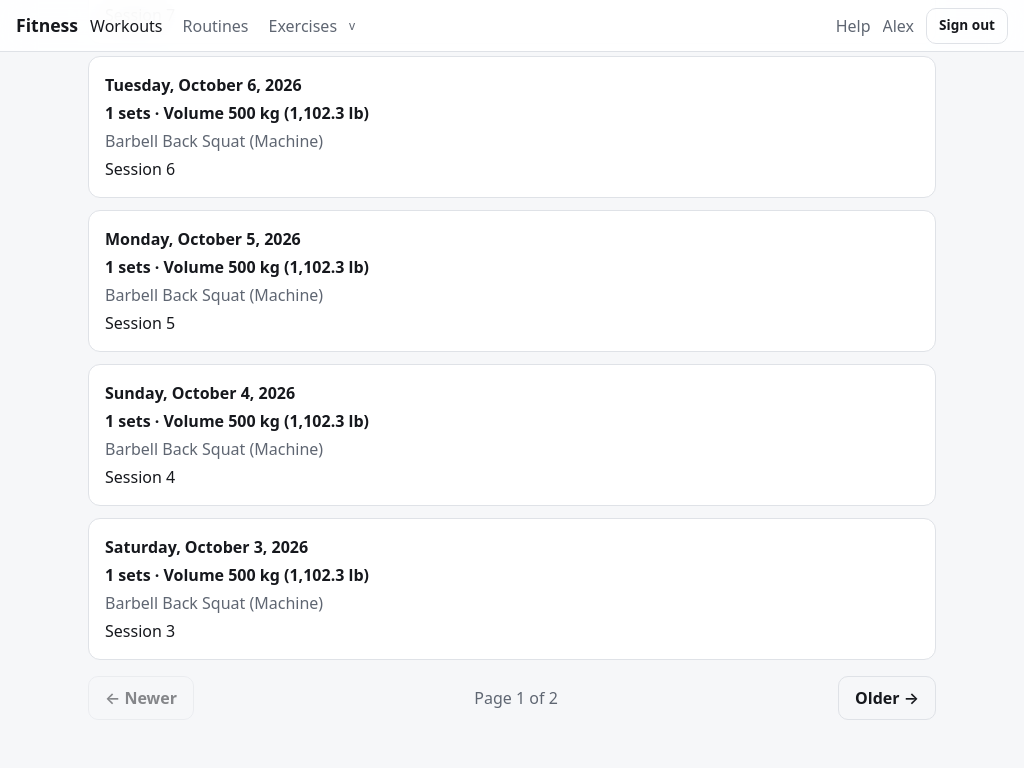
workouts list › paginates with newer/older links
(page scrolled)
Expected: the text "Page 1 of 2" is shown, [474,686,558,710]
Expected: the text "Session 2" is not shown
Click the link "Older →" at {"x": 887, "y": 698}, box [838,676,936,720]
(page scrolled)
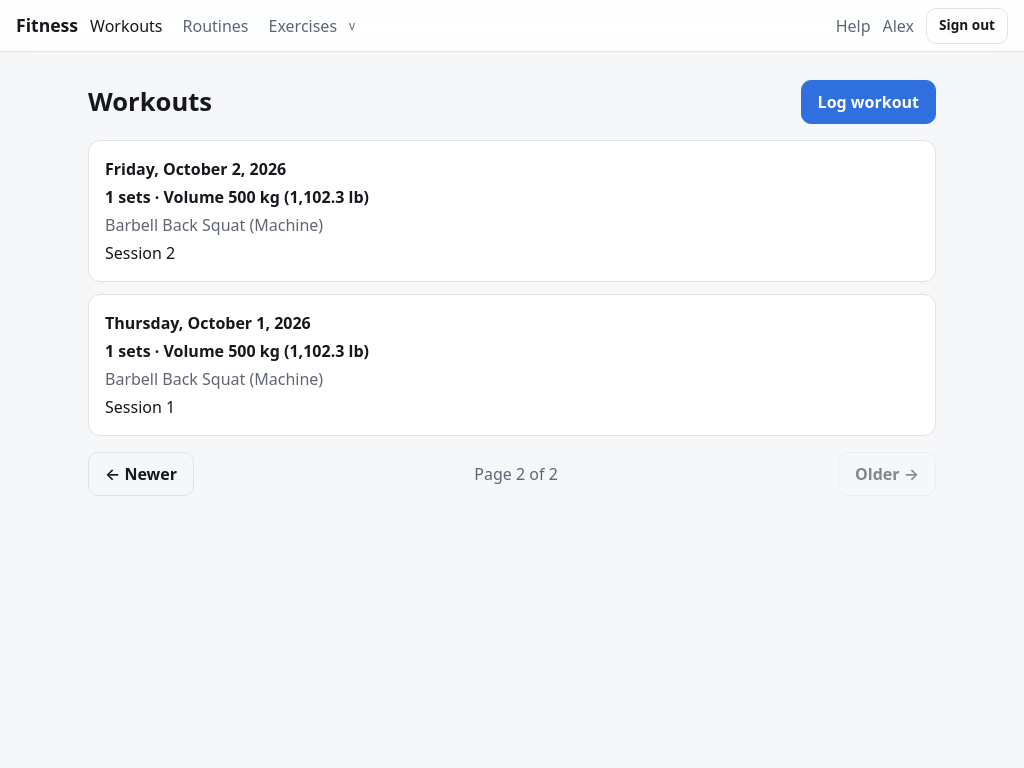
Expected: the text "Session 1" is shown, [105,396,175,418]
Expected: the text "Page 2 of 2" is shown, [474,462,558,486]
